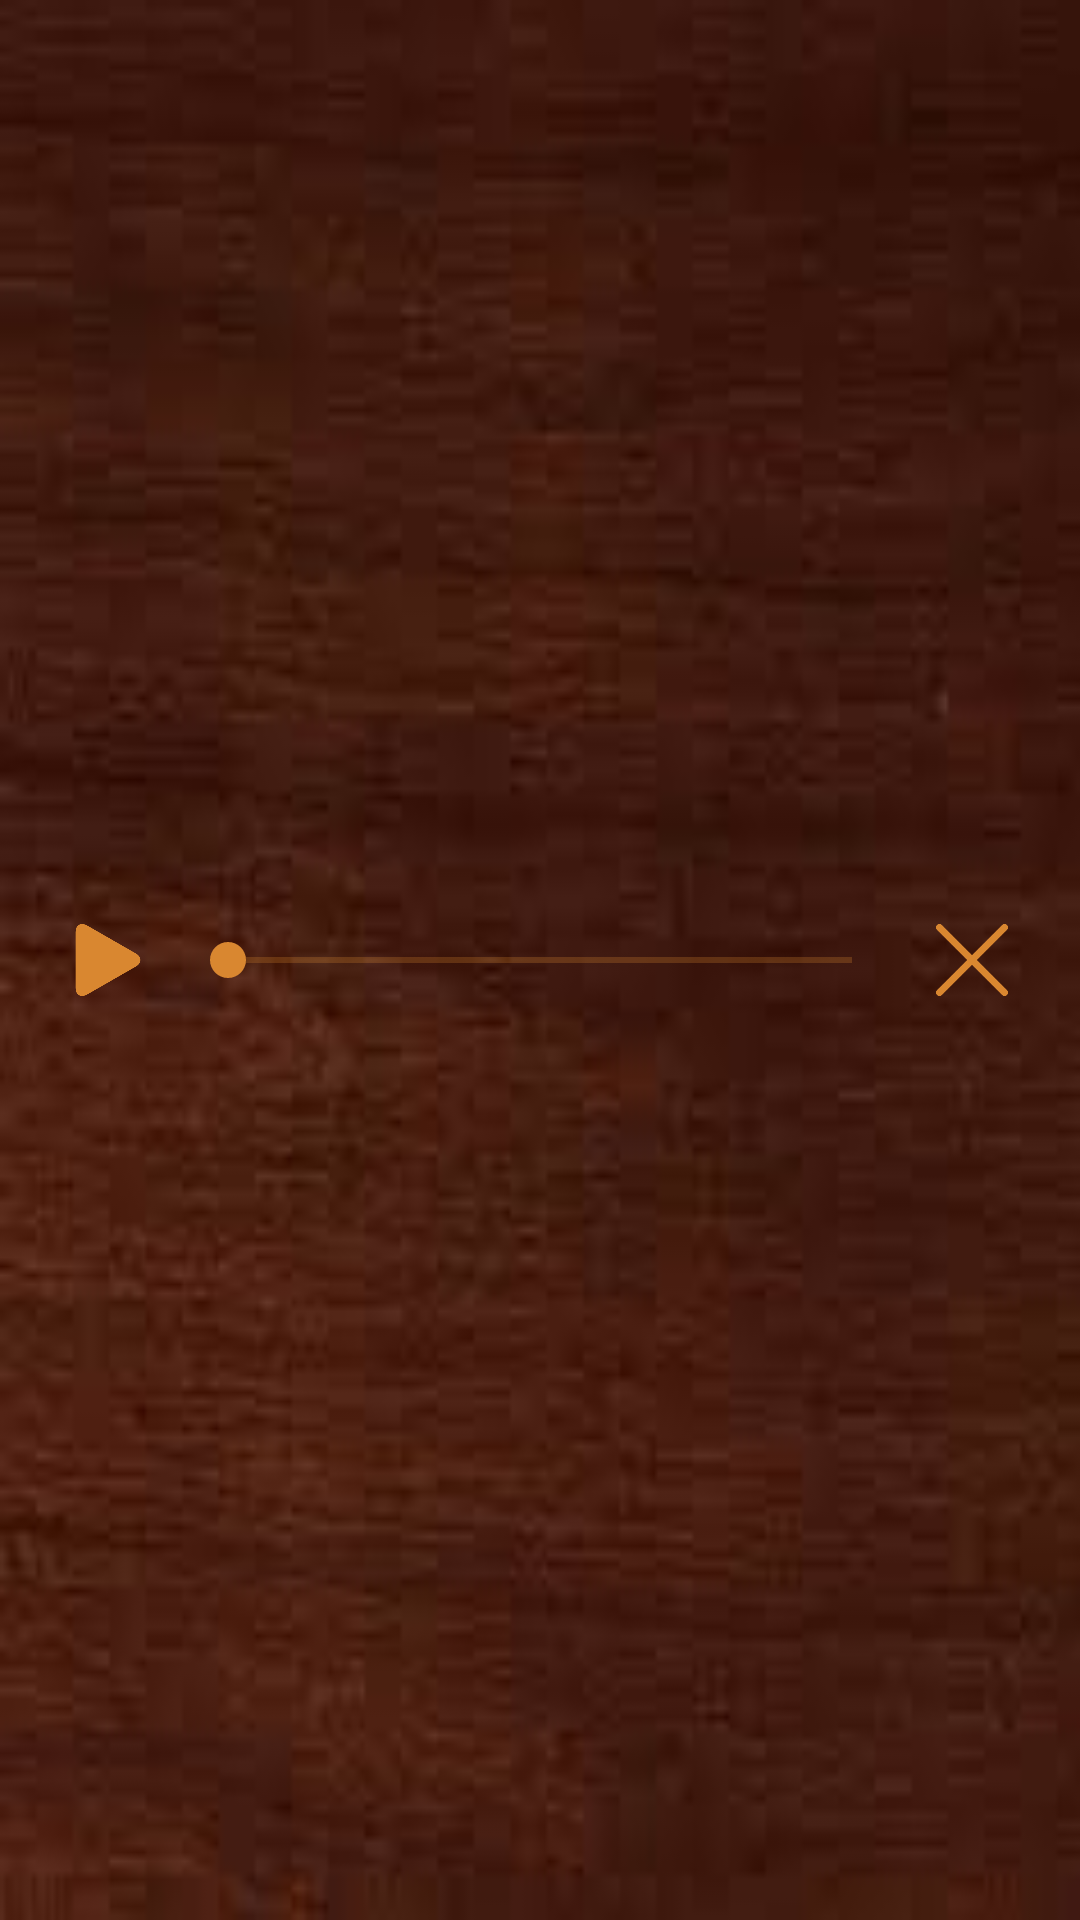

Screen size 1080*1920. Icon name, then its box in pixels as (x1, y1, x2, y2):
close: (936, 924, 1008, 996)
play: (75, 924, 141, 996)
